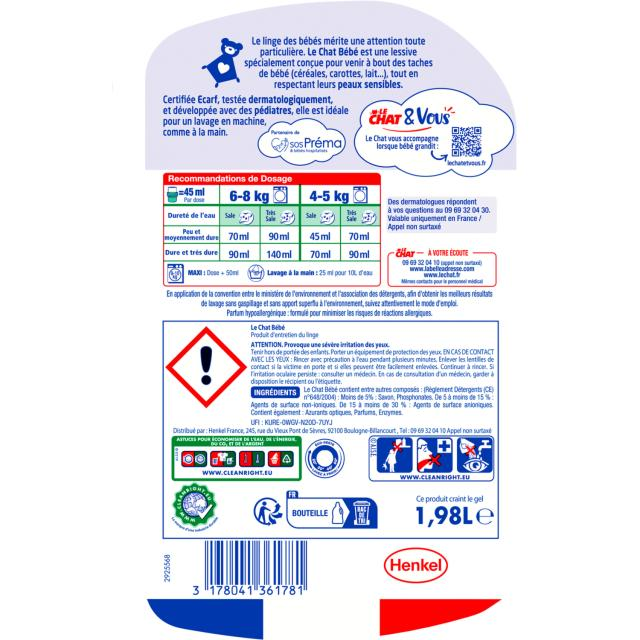GHS_Symbol_EXCLAMATION_MARK: (167, 328, 247, 407)
